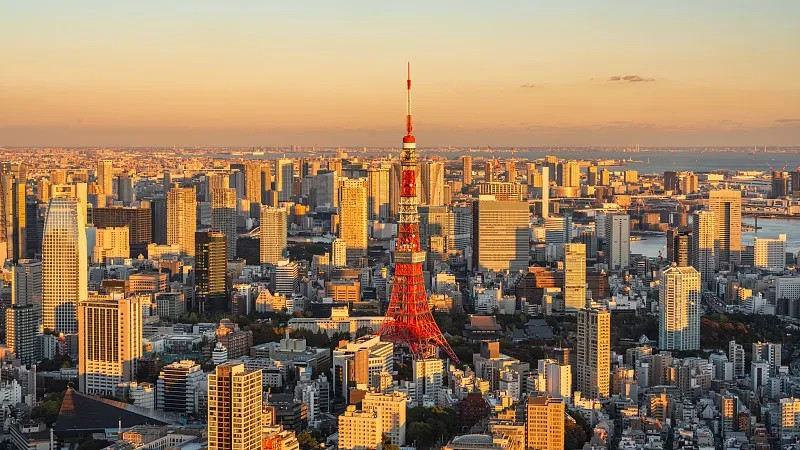Tokyo: (379, 60, 465, 366)
